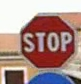stop: (18, 12, 78, 69)
